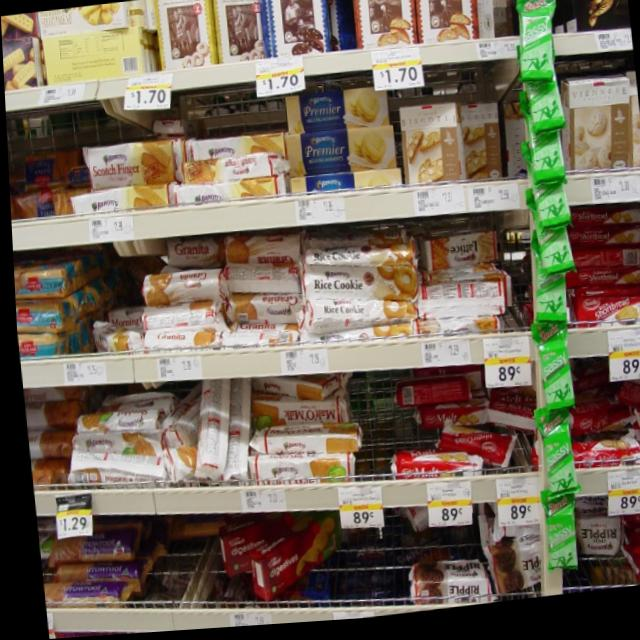q211: (413, 0, 476, 55), (356, 0, 417, 55)
